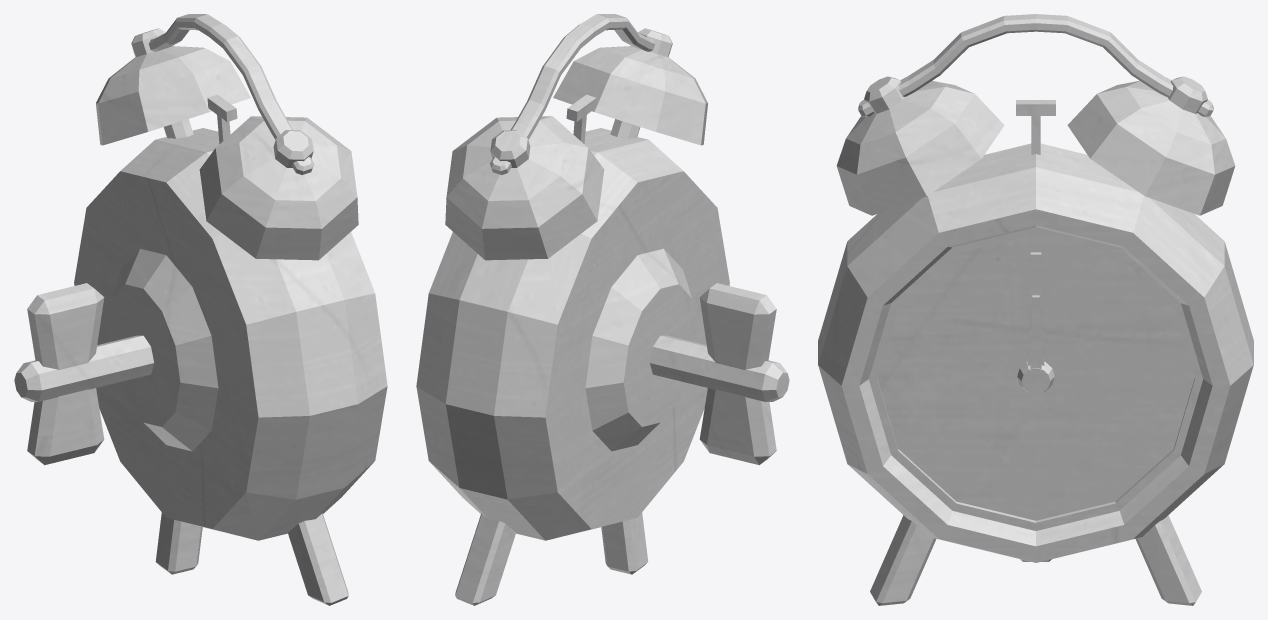
File: Doors Alarm clock.obj
3 views of the same model, side by side, from view 1: azimuth 30°, elevation 25°; view 2: azimuth 150°, elevation 25°; view 3: azimuth 270°, elevation 25° (orthographic). The views are drawn at different scales.
Visible parts, largest first — view 1: Clock1, Bells1, Crank1, Legs1, Clamp1, Hammer1; view 2: Clock1, Bells1, Crank1, Legs1, Clamp1, Hammer1; view 3: Inner1, Clock1, Bells1, Ring1, Legs1, Clamp1, Handlong1, Hammer1, Handshort1.
Part boxes in pixels (x1,y1,x2,y2): Clock1: (74, 128, 387, 540); Bells1: (96, 28, 358, 260); Crank1: (14, 283, 153, 465); Legs1: (155, 512, 348, 605); Clamp1: (133, 14, 313, 174); Hammer1: (207, 94, 237, 143); Clock1: (416, 128, 729, 540); Bells1: (445, 28, 707, 260); Crank1: (650, 283, 789, 465); Legs1: (455, 512, 648, 605); Clamp1: (490, 14, 670, 174); Hammer1: (566, 94, 596, 143); Inner1: (877, 234, 1194, 520); Clock1: (818, 143, 1253, 562); Bells1: (836, 76, 1235, 215); Ring1: (869, 227, 1202, 530); Legs1: (870, 515, 1201, 605); Clamp1: (858, 14, 1213, 116); Handlong1: (1027, 252, 1044, 365); Hammer1: (1016, 100, 1055, 154); Handshort1: (1030, 295, 1041, 368).
Size of the model in its own units: 0.7534 by 1.37 by 0.9668.
Materials: 6 (6 with a texture image).
